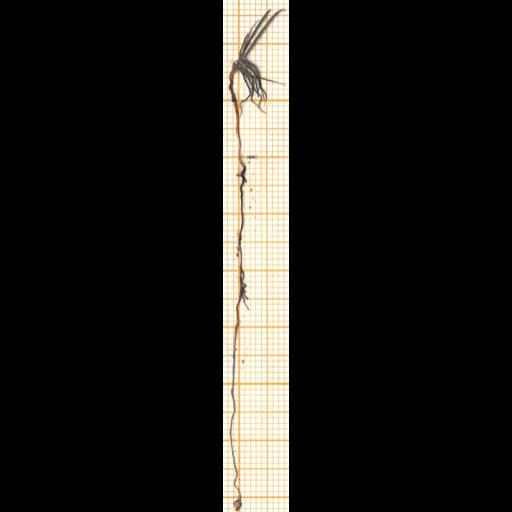flowerPinus: (233, 10, 282, 108)
rootPinus: (230, 161, 247, 511), (229, 309, 241, 511)
stemPinus: (229, 67, 240, 161)
